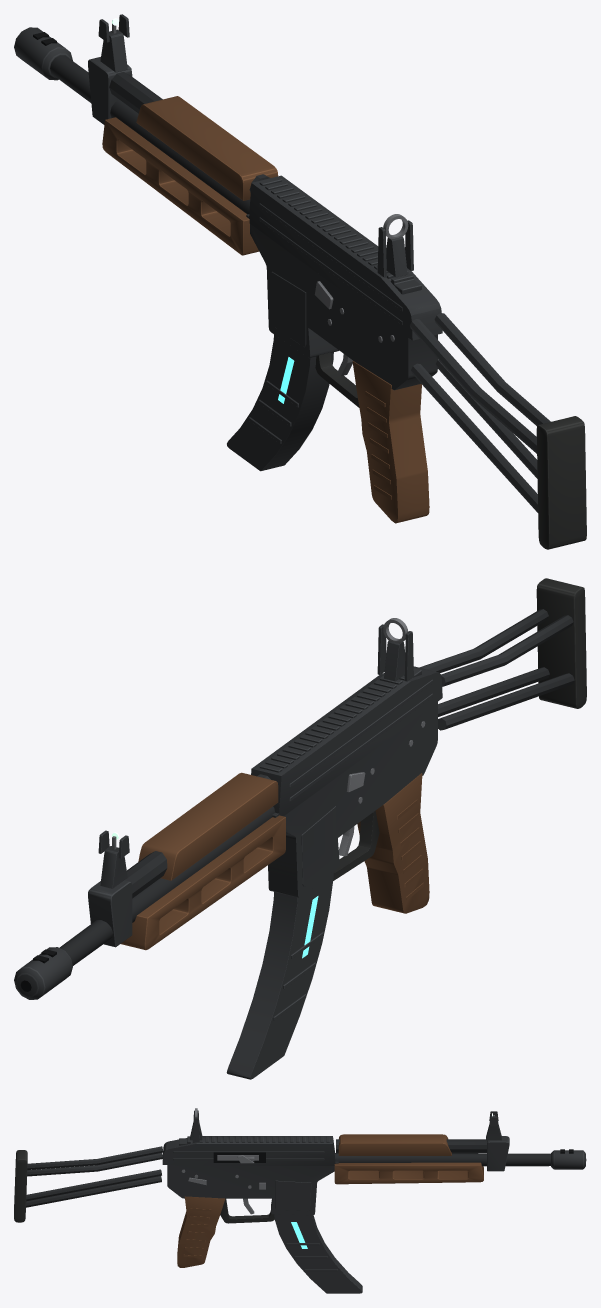
Rendered from assault.glb.
The picture shows the model from 3 angles, top to bottom: view 1: azimuth 30°, elevation 25°; view 2: azimuth 150°, elevation 25°; view 3: azimuth 270°, elevation 25°; orthographic projection. The views are drawn at different scales.
Parts seen in each view (by area): view 1: Body, ThirdPersonOnly, Cell, IronSight; view 2: Body, ThirdPersonOnly, Cell, IronSight; view 3: Body, ThirdPersonOnly, Cell, IronSight.
Boxes of the visible parts, <box> form: Body: <box>14,27,442,523</box>; ThirdPersonOnly: <box>410,313,586,549</box>; Cell: <box>227,334,333,471</box>; IronSight: <box>98,14,413,277</box>; Body: <box>14,666,442,999</box>; ThirdPersonOnly: <box>419,578,586,730</box>; Cell: <box>226,871,333,1079</box>; IronSight: <box>98,618,413,888</box>; Body: <box>162,1134,586,1267</box>; ThirdPersonOnly: <box>14,1146,162,1222</box>; Cell: <box>274,1214,362,1293</box>; IronSight: <box>190,1108,501,1142</box>.
Size of the model in its own units: 0.0485 by 0.3448 by 0.9857.
